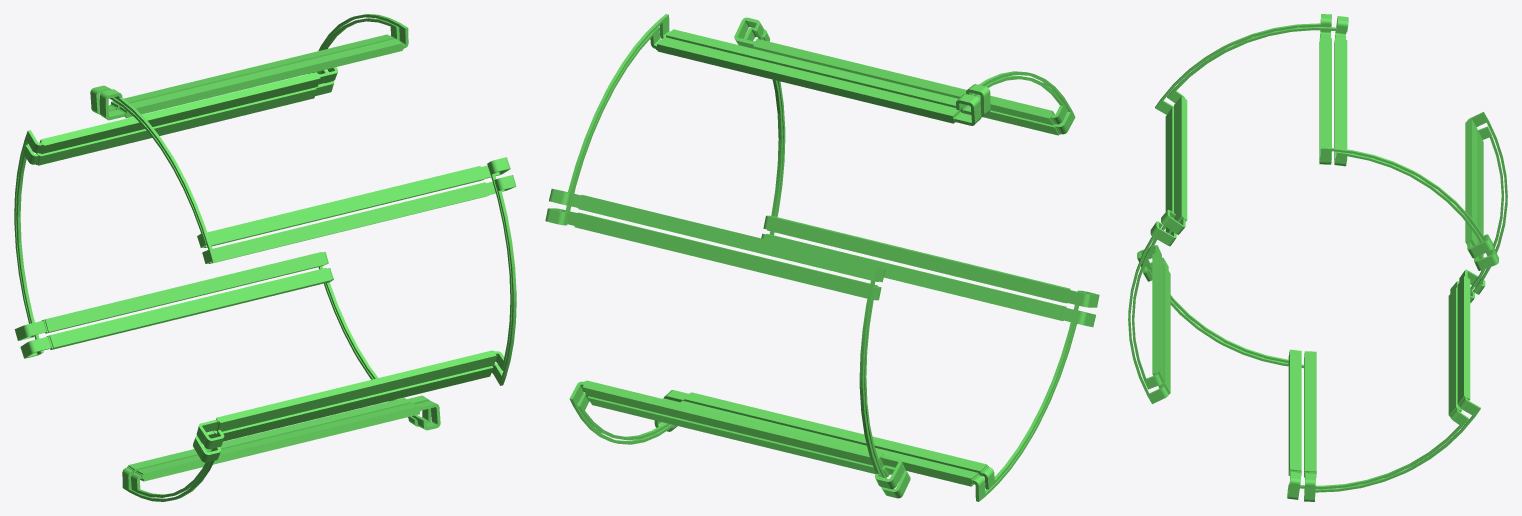
File: PhaseC2.glb
3 renders of one model, left to right at view 1: azimuth 30°, elevation 25°; view 2: azimuth 150°, elevation 25°; view 3: azimuth 270°, elevation 25°, orthographic. The views are drawn at different scales.
Parts seen in each view (by area): view 1: Phase C2; view 2: Phase C2; view 3: Phase C2.
Boxes of the visible parts, x1=… form: Phase C2: x1=14, y1=14, x2=516, y2=501; Phase C2: x1=545, y1=14, x2=1099, y2=501; Phase C2: x1=1128, y1=14, x2=1507, y2=501.
Size of the model in its own units: 0.5268 by 0.6329 by 0.6162.
